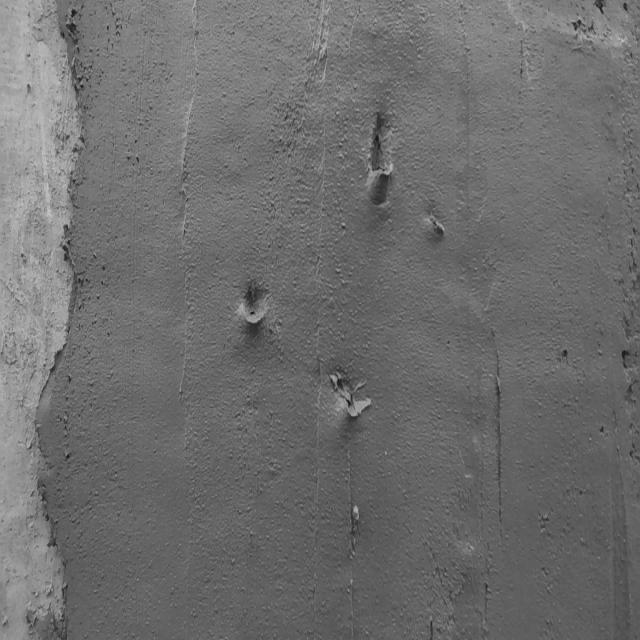trowels marks: (342, 457, 366, 635), (490, 328, 511, 531)
